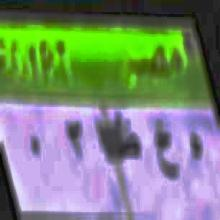0: (29, 131, 42, 160)
3: (61, 111, 86, 164)
Thaa: (114, 102, 141, 170)
haa: (187, 131, 205, 170)
khaa: (152, 112, 179, 186)
